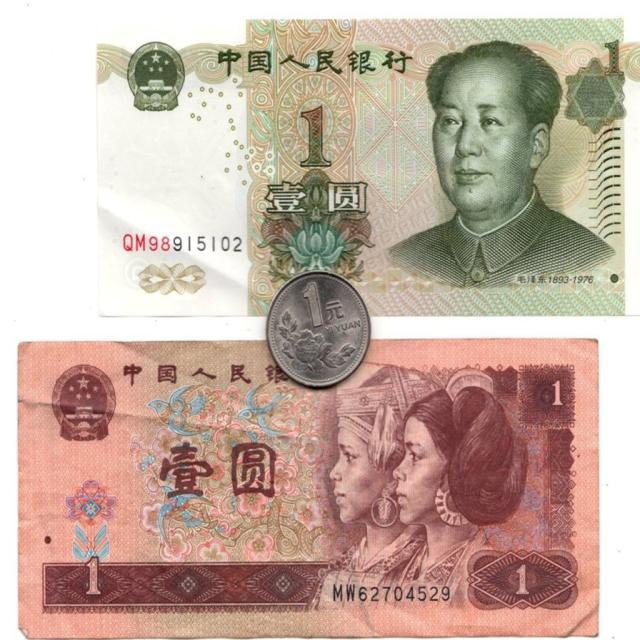Coin: (262, 267, 374, 398)
